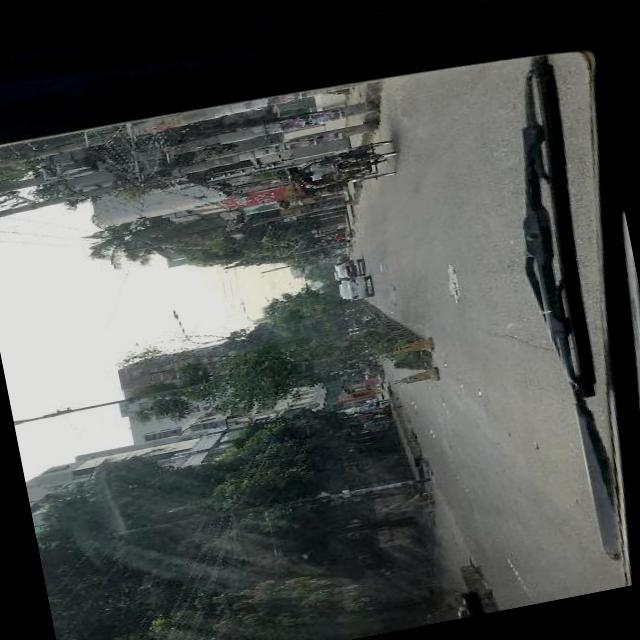car: (336, 274, 374, 302), (334, 257, 363, 278)
motorcycle: (286, 136, 402, 192), (355, 363, 384, 377), (352, 357, 379, 368), (328, 230, 352, 238)
